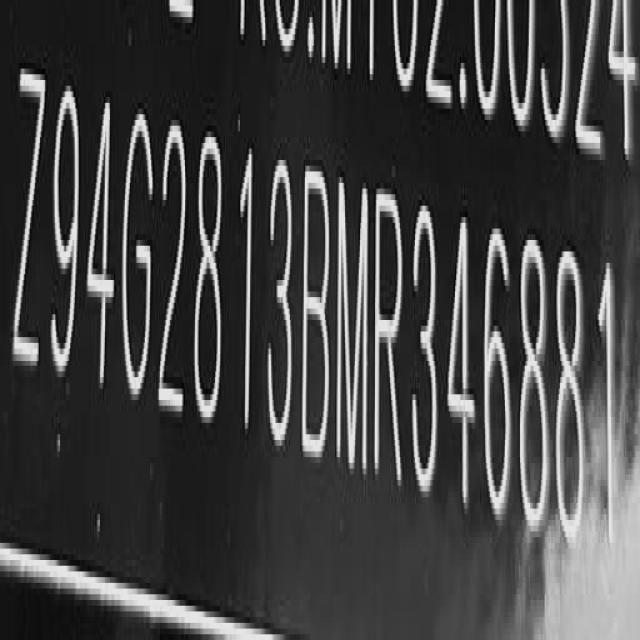1: (596, 256, 620, 555), (235, 142, 255, 438)
2: (160, 114, 190, 419)
3: (412, 201, 440, 503), (268, 160, 296, 454)
4: (447, 214, 480, 516), (88, 88, 118, 396)
6: (483, 223, 514, 522)
8: (553, 243, 585, 534), (519, 232, 550, 529), (196, 126, 226, 428)
9: (48, 73, 80, 385)
B: (302, 161, 334, 462)
G: (120, 97, 156, 410)
M: (337, 172, 368, 476)
R: (376, 184, 408, 491)
Z: (14, 59, 46, 379)
